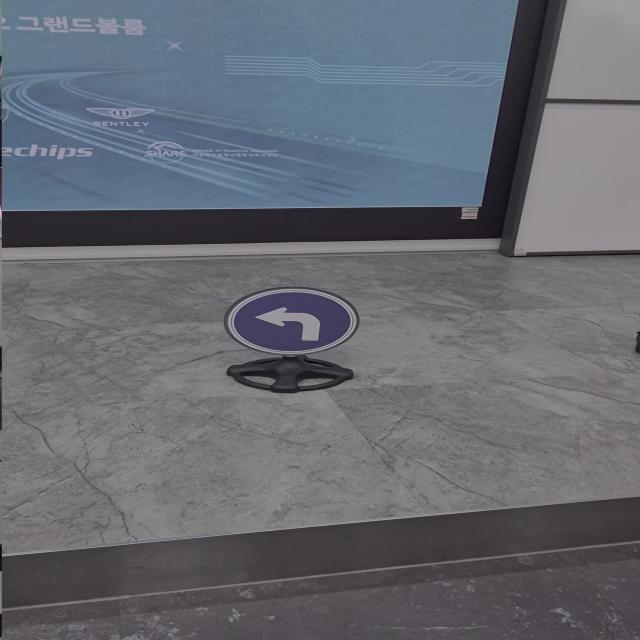left_direction: (214, 286, 370, 356)
